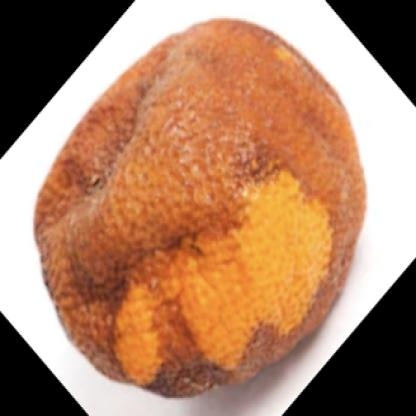rotten: (33, 18, 365, 397)
